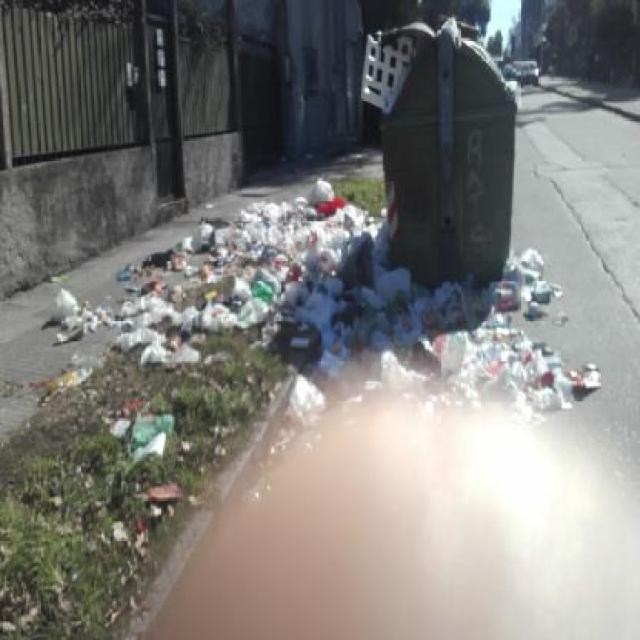garbage: (139, 188, 554, 441), (56, 285, 307, 558)
